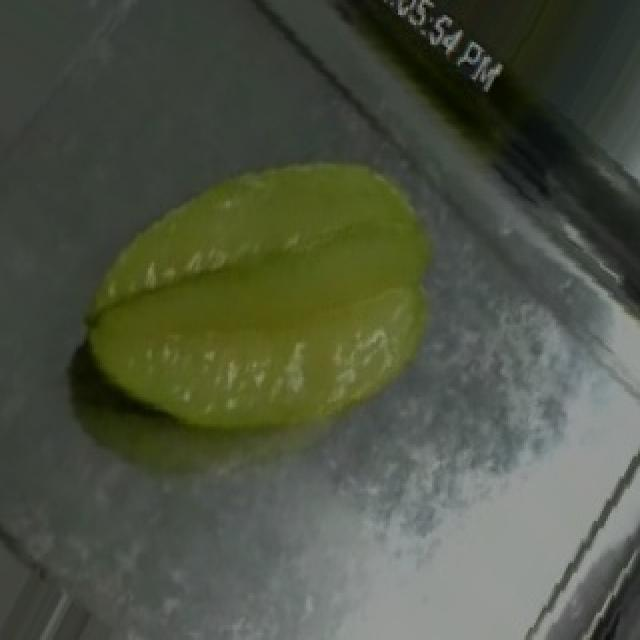fruit: (62, 89, 508, 491)
